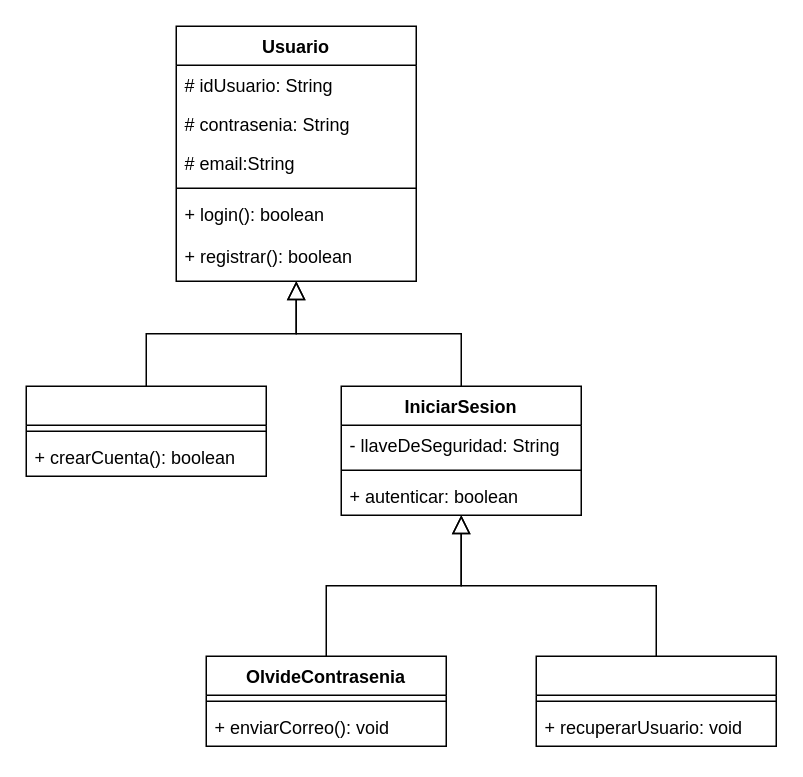
This 803x777 diagram has some shape labels left out. The shapes that lost their labels are listed below. From the top down, each one's box as (x1, y1, x2, y2) in pixels, then its label:
(25, 385, 266, 476): Registrar
(535, 655, 776, 746): OlvideUsuario
